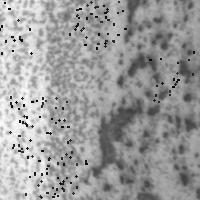pitted_surface: (3, 3, 112, 198), (101, 1, 199, 188), (9, 96, 69, 156), (92, 104, 141, 177), (149, 51, 200, 111), (25, 151, 85, 200), (69, 0, 125, 47), (0, 0, 30, 52)
